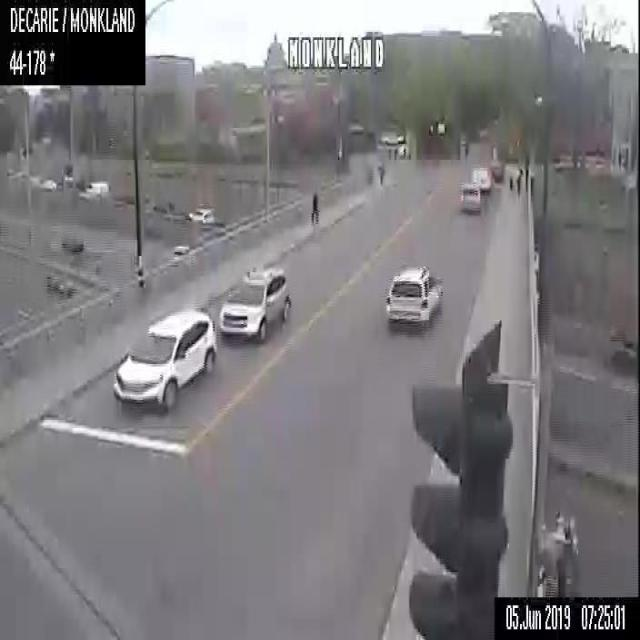pedestrian: (310, 191, 318, 224), (515, 168, 523, 200), (376, 157, 384, 187), (507, 174, 513, 190)
vehicle: (110, 309, 215, 412), (216, 268, 291, 344), (382, 264, 443, 331), (459, 182, 480, 212), (46, 273, 72, 296), (470, 166, 494, 190), (58, 232, 83, 253), (84, 181, 110, 198), (187, 206, 213, 222)
